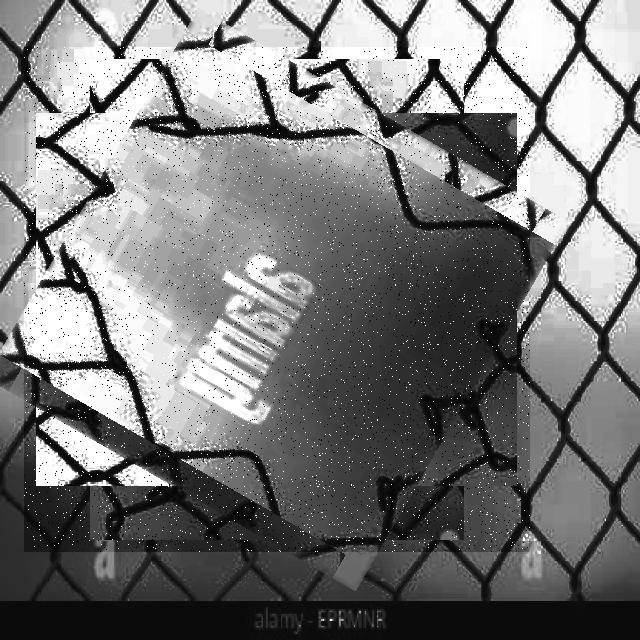anomaly-fence: (24, 47, 530, 552)
